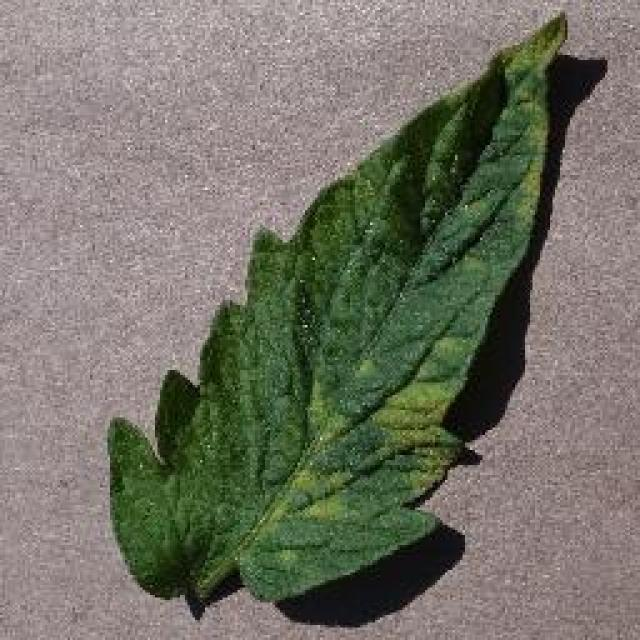Tomato mold leaf: (91, 10, 571, 612)
